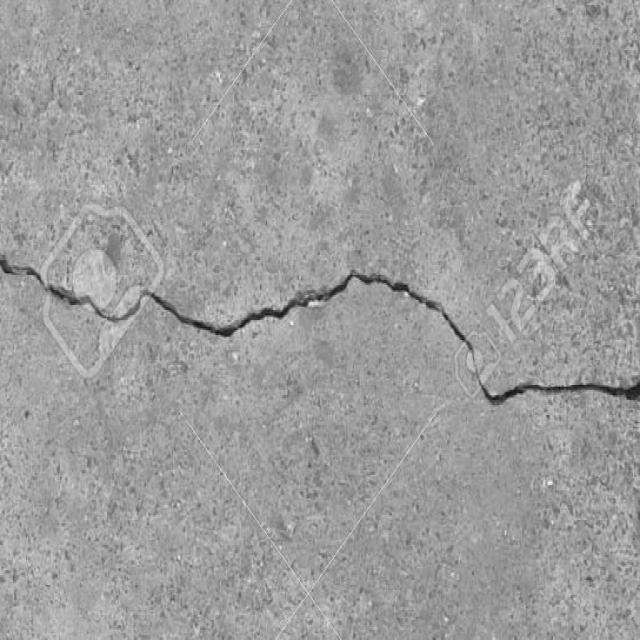crack: (1, 249, 639, 409)
